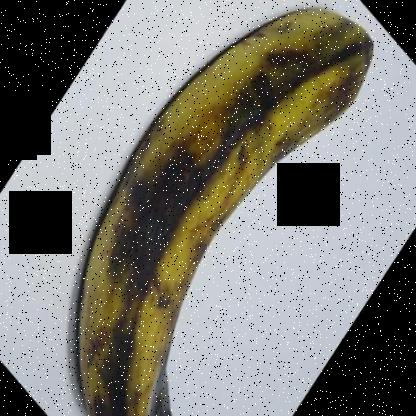overripe: (64, 1, 385, 415)
